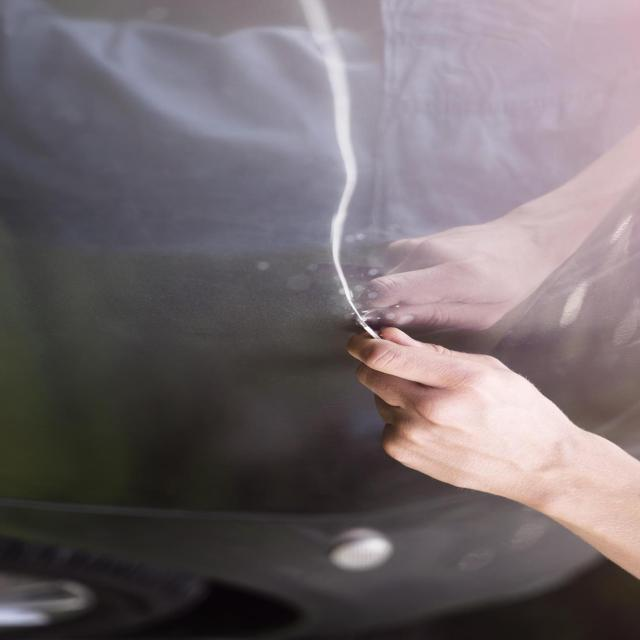scratch: (280, 2, 393, 338)
